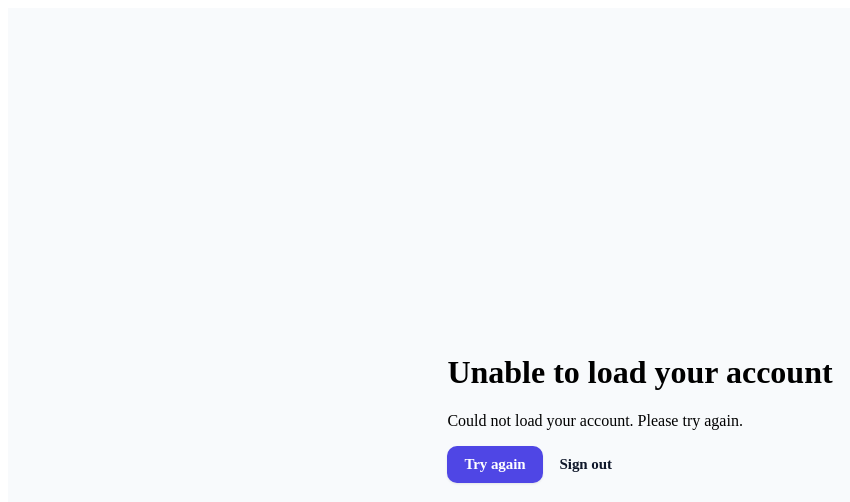
account loading and protected routing › shows retry for session loading errors before redirecting to login
Expected: the message is shown, [447,333,833,484]
Expected: the text "Login screen" is not shown
Click the button "Sign out". click: [586, 465]
box: [542,446,629,483]
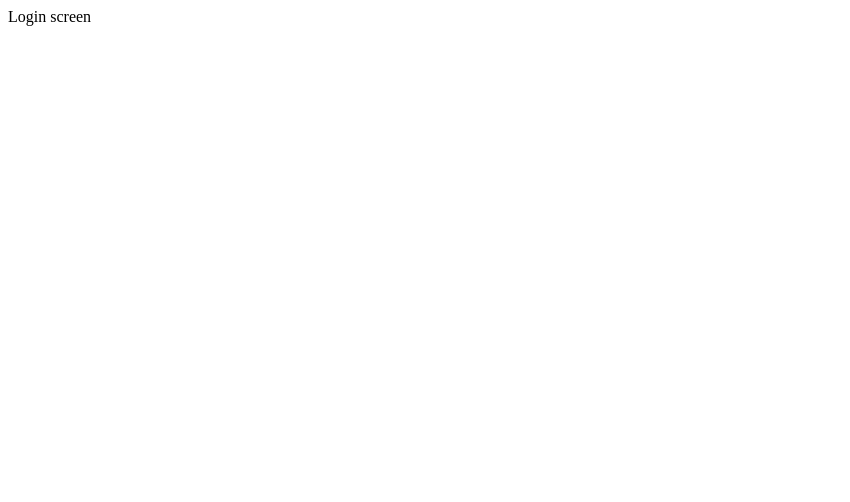
Expected: the text "Login screen" is shown, [8,8,91,25]
